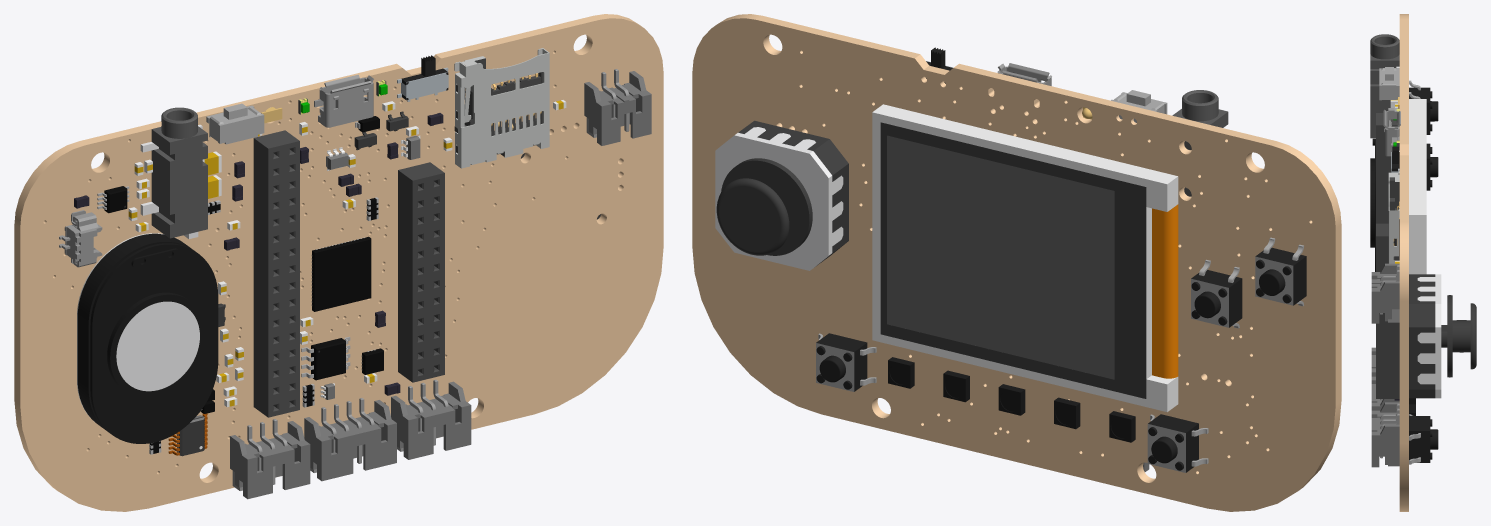
The model's file is Adafruit PyGamer.fbx.
The picture shows the model from 3 angles, left to right: view 1: azimuth 30°, elevation 25°; view 2: azimuth 150°, elevation 25°; view 3: azimuth 270°, elevation 25°; orthographic projection. The views are drawn at different scales.
Parts seen in each view (by area): view 1: Board, Body4 (×3), Body10, Body1, Body5 (×3), Body8, Body2 (×5), Body13, Body34, Body11, Body12, Body6; view 2: Board, Body3, Body2 (×10), Body5, Body4 (×2), Body6; view 3: Body4 (×4), Body2 (×6), Board, Body5 (×4), Body3 (×2), Body8, Body1, Body6, Body12, Body10.
Boxes of the visible parts, box(x1,y1,x2,y2) form: Board: box(14, 14, 663, 511); Body4 (×3): box(151, 48, 651, 238); Body10: box(90, 243, 218, 443); Body1: box(253, 130, 299, 417); Body5 (×3): box(230, 381, 471, 499); Body8: box(398, 162, 444, 382); Body2 (×5): box(59, 55, 448, 456); Body13: box(116, 301, 199, 391); Body34: box(311, 236, 371, 311); Body11: box(77, 233, 192, 431); Body12: box(107, 292, 206, 397); Body6: box(206, 103, 264, 144); Board: box(692, 14, 1341, 511); Body3: box(872, 104, 1178, 412); Body2 (×10): box(715, 127, 1306, 472); Body5: box(716, 158, 812, 255); Body4 (×2): box(738, 90, 1228, 265); Body6: box(1111, 90, 1167, 122); Body4 (×4): box(1370, 34, 1435, 398); Body2 (×6): box(1383, 80, 1441, 464); Board: box(1399, 14, 1408, 511); Body5 (×4): box(1371, 295, 1476, 467); Body3 (×2): box(1409, 99, 1447, 347); Body8: box(1376, 223, 1399, 398); Body1: box(1376, 113, 1397, 223); Body6: box(1379, 67, 1399, 100); Body12: box(1370, 158, 1374, 247); Body10: box(1372, 138, 1375, 271).
Bounding box in the file's own units: 102 × 59.65 × 18.07.
